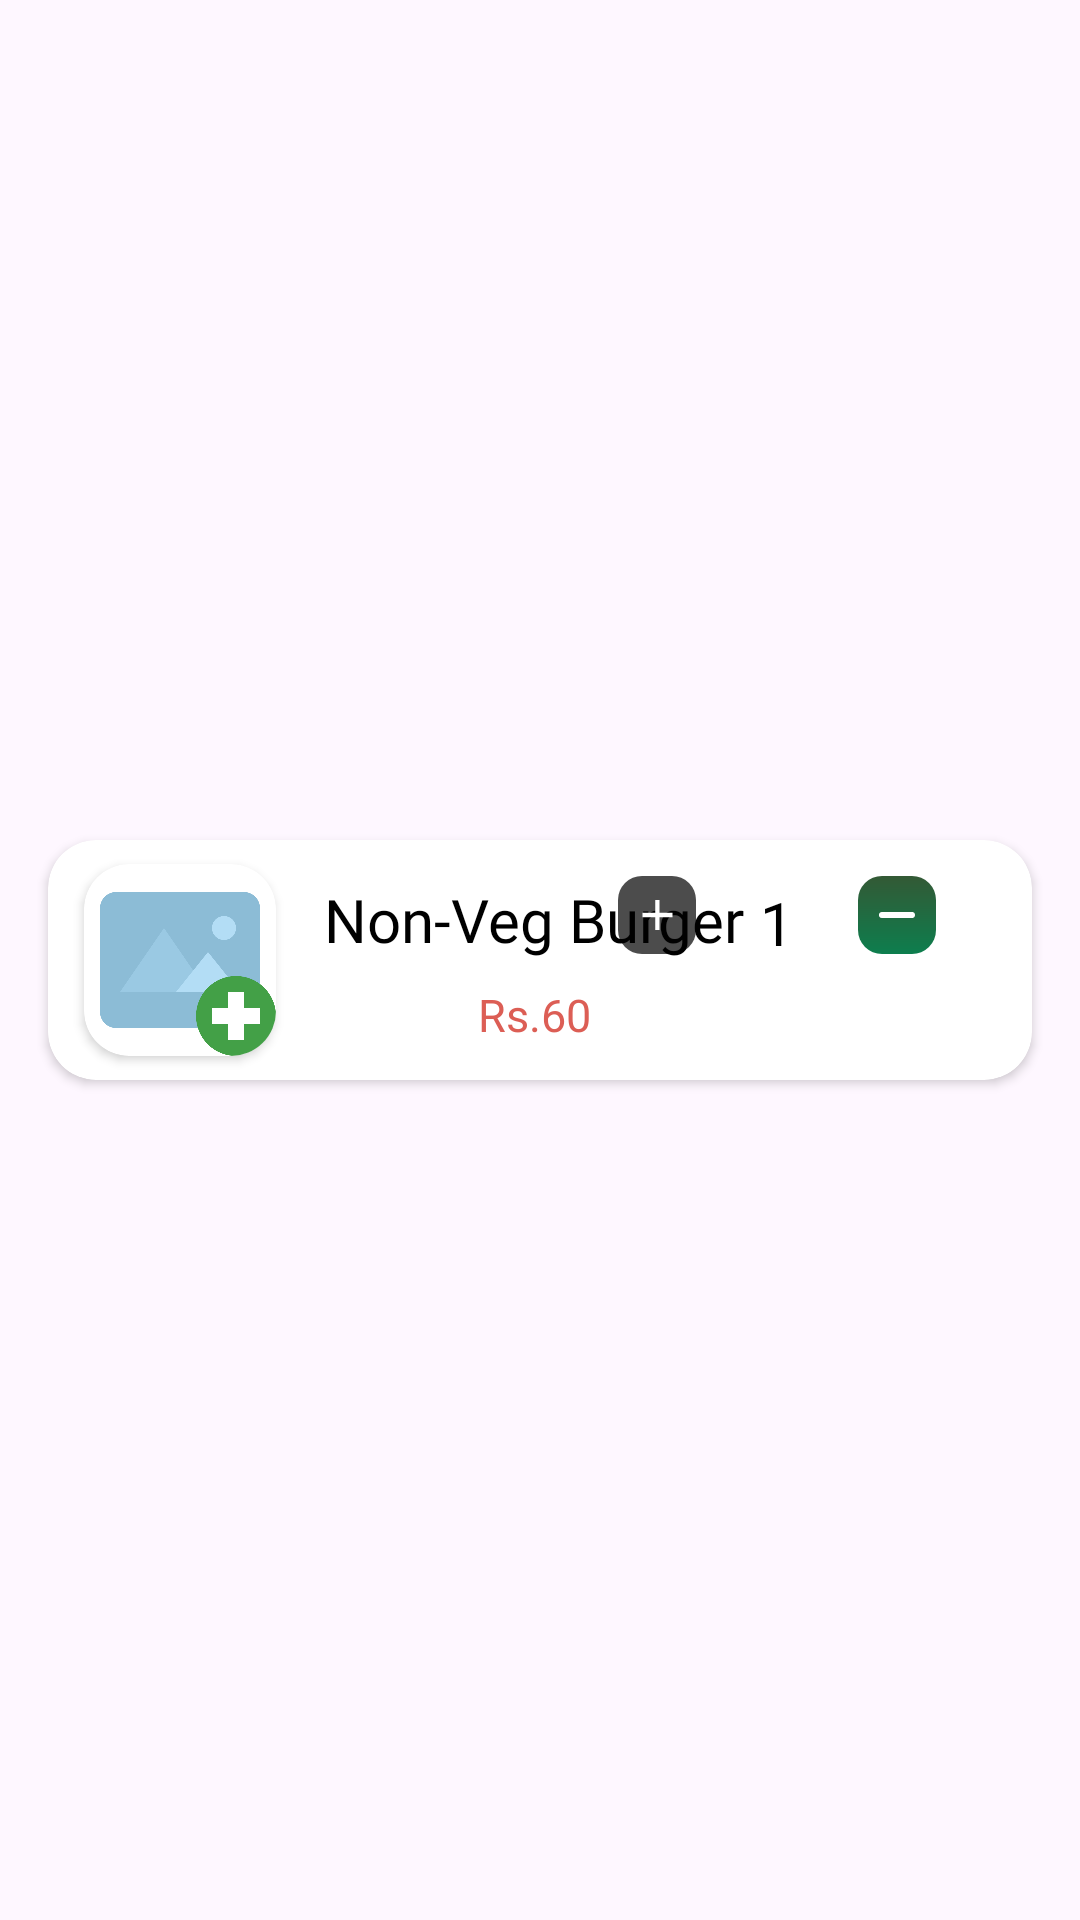

Where icons sit on this 1080px x 1920px app screen, as bbox(x1, y1, x2, y2):
iconminus: bbox(858, 876, 936, 954)
